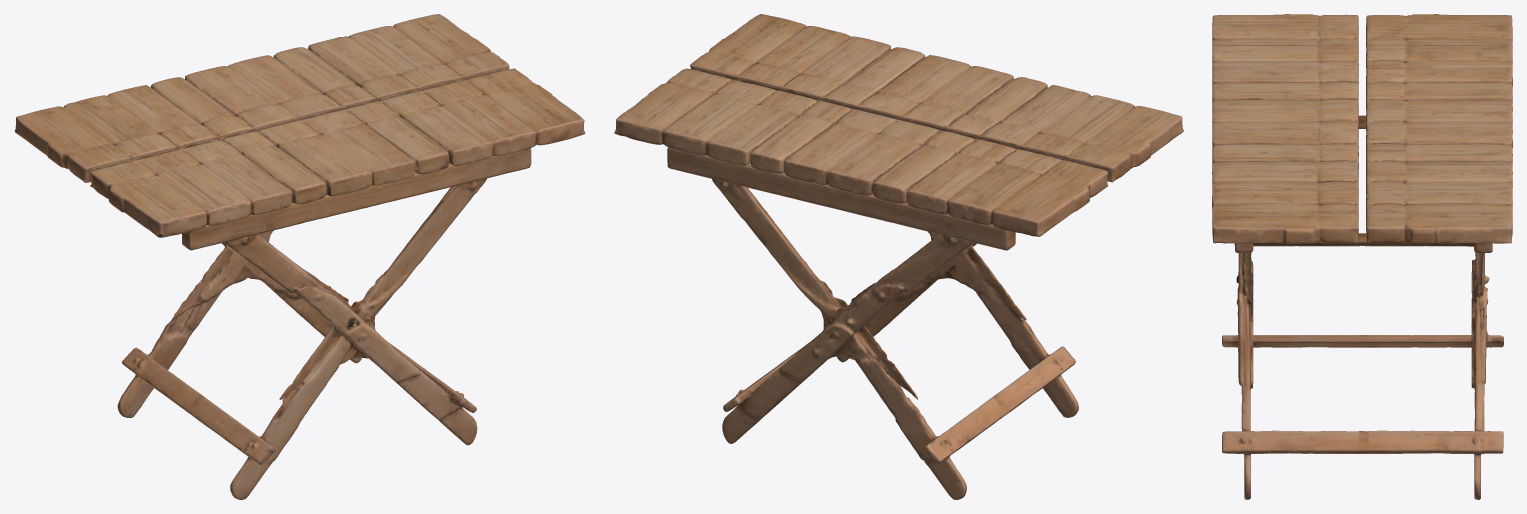
File: image_png_1007083230_texture.fbx
3 renders of one model, left to right at view 1: azimuth 30°, elevation 25°; view 2: azimuth 150°, elevation 25°; view 3: azimuth 270°, elevation 25°, orthographic. The views are drawn at different scales.
Parts seen in each view (by area): view 1: Mesh1.0; view 2: Mesh1.0; view 3: Mesh1.0.
Boxes of the visible parts, x1,y1,x2,y2 form: Mesh1.0: (14,14,585,499); Mesh1.0: (614,14,1183,499); Mesh1.0: (1212,14,1512,499).
Size of the model in its own units: 191 by 133 by 112.
Materials: 1 (1 with a texture image).
